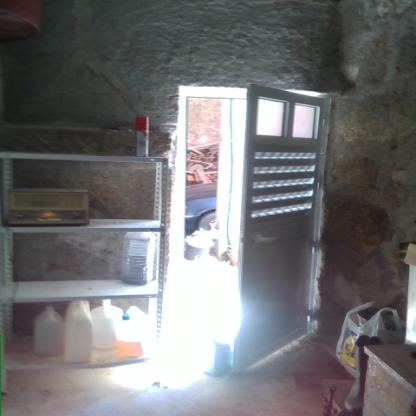semi: (162, 77, 349, 390)
